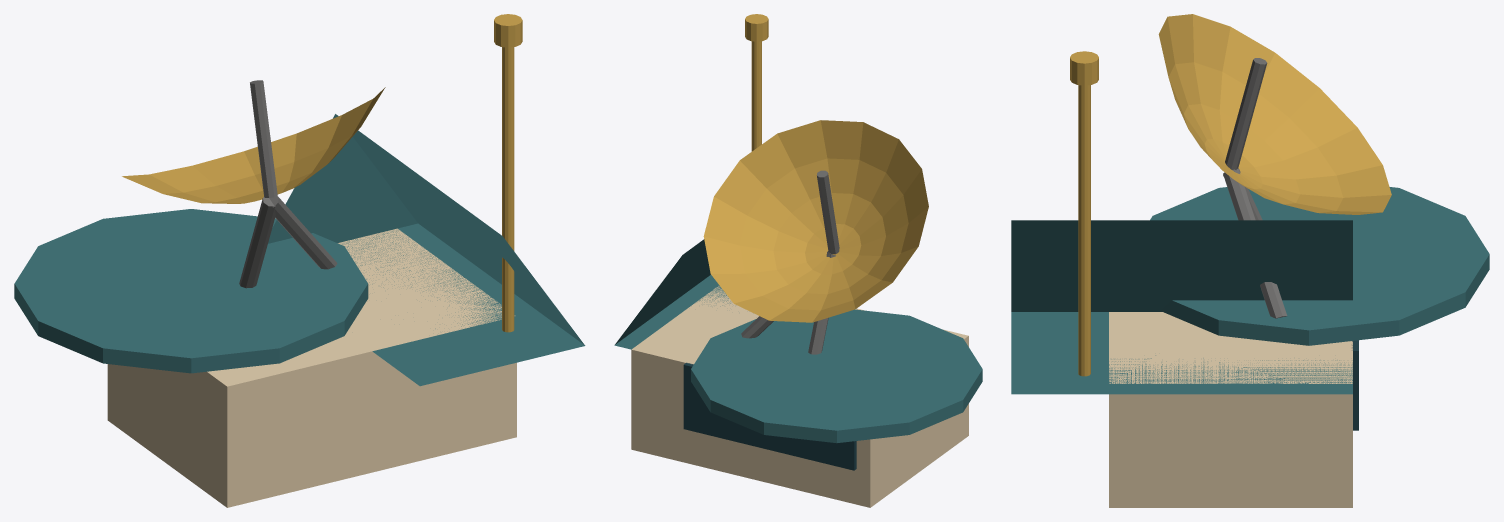
3 renders of one model, left to right at view 1: azimuth 30°, elevation 25°; view 2: azimuth 150°, elevation 25°; view 3: azimuth 270°, elevation 25°, orthographic. The views are drawn at different scales.
Visible parts, largest first — view 1: Radio station; view 2: Radio station; view 3: Radio station.
Boxes of the visible parts, bbox=[...] form: Radio station: bbox=[14, 14, 585, 507]; Radio station: bbox=[614, 14, 982, 507]; Radio station: bbox=[1011, 14, 1489, 507].
Size of the model in its own units: 9.7 by 9.95 by 9.8.
Materials: 1 (1 with a texture image).
